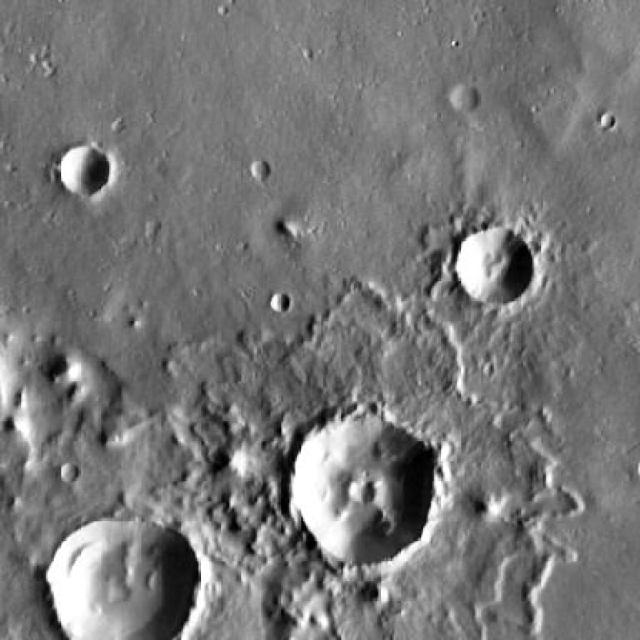crater: (290, 413, 439, 562), (45, 506, 192, 640), (456, 225, 535, 304), (61, 144, 110, 193), (449, 80, 480, 112), (270, 292, 290, 312), (252, 158, 272, 178), (60, 462, 78, 481)
